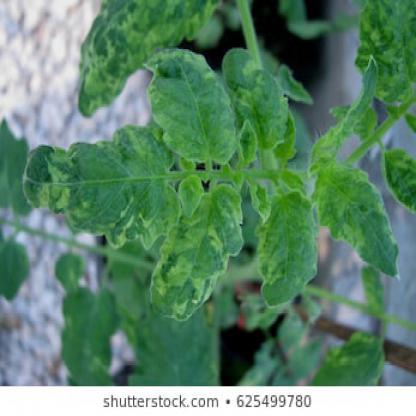Tomato leaf yellow virus: (18, 122, 188, 250), (151, 178, 243, 324), (147, 43, 247, 172), (304, 156, 400, 279), (257, 187, 320, 324)
